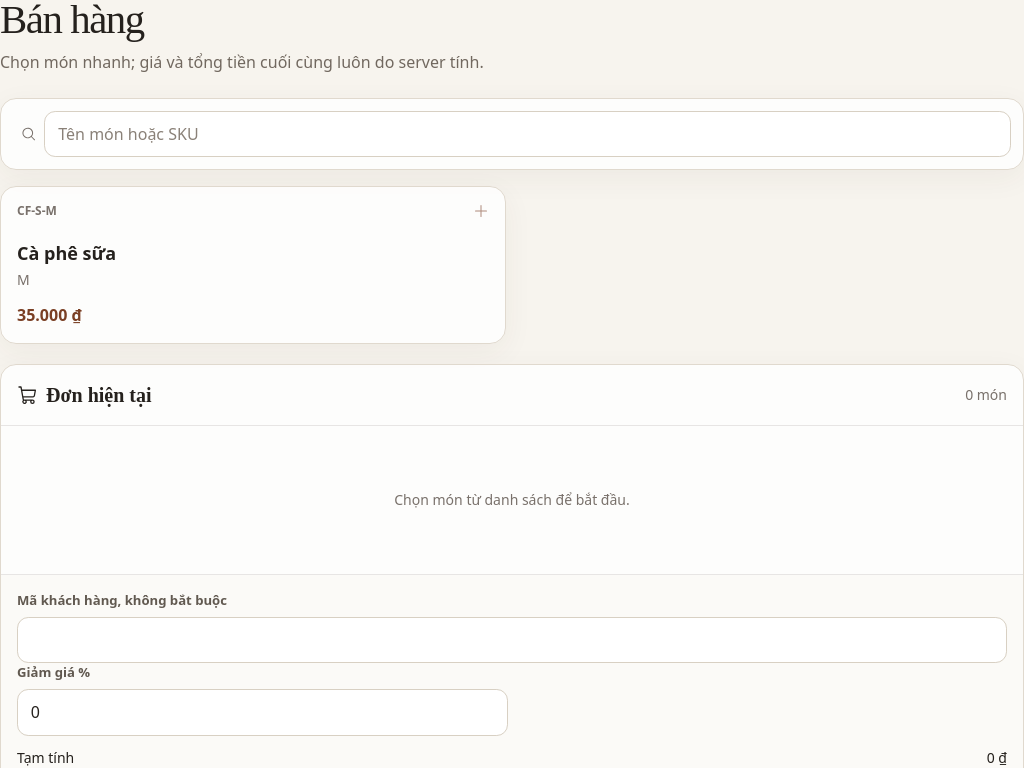
Test: creates a POS order using variant and quantity without sending client prices
Click the button "CF-S-M Cà phê sữa M 35.000 ₫". click: (37, 211)
box: x1=0 y1=186 x2=506 y2=344
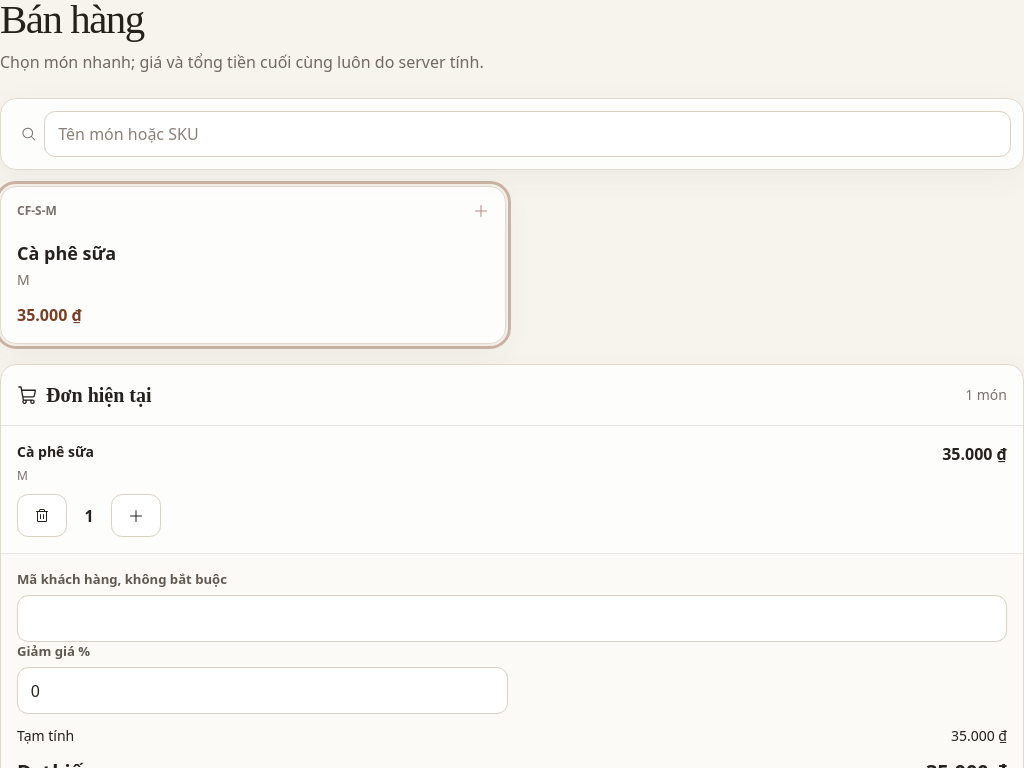
Click the button named "Tăng số lượng". click: (136, 516)
box: x1=111 y1=494 x2=161 y2=537
(page scrolled)
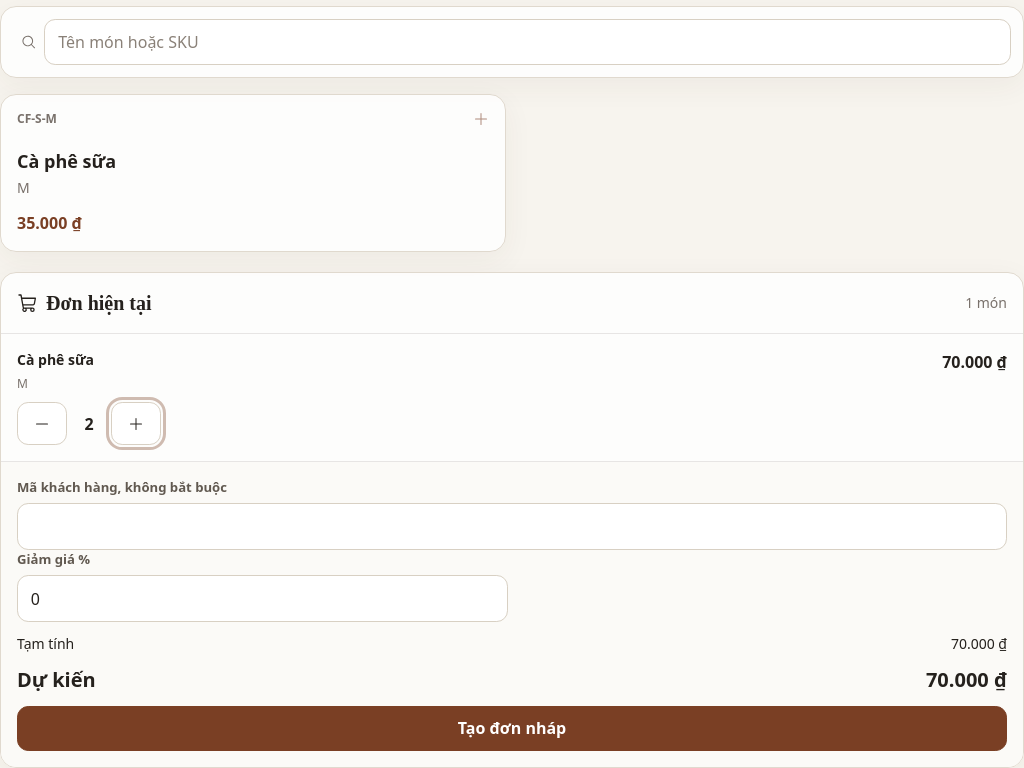
Click the button "Tạo đơn nháp". click: (512, 728)
box: x1=17 y1=706 x2=1007 y2=751
(page scrolled)
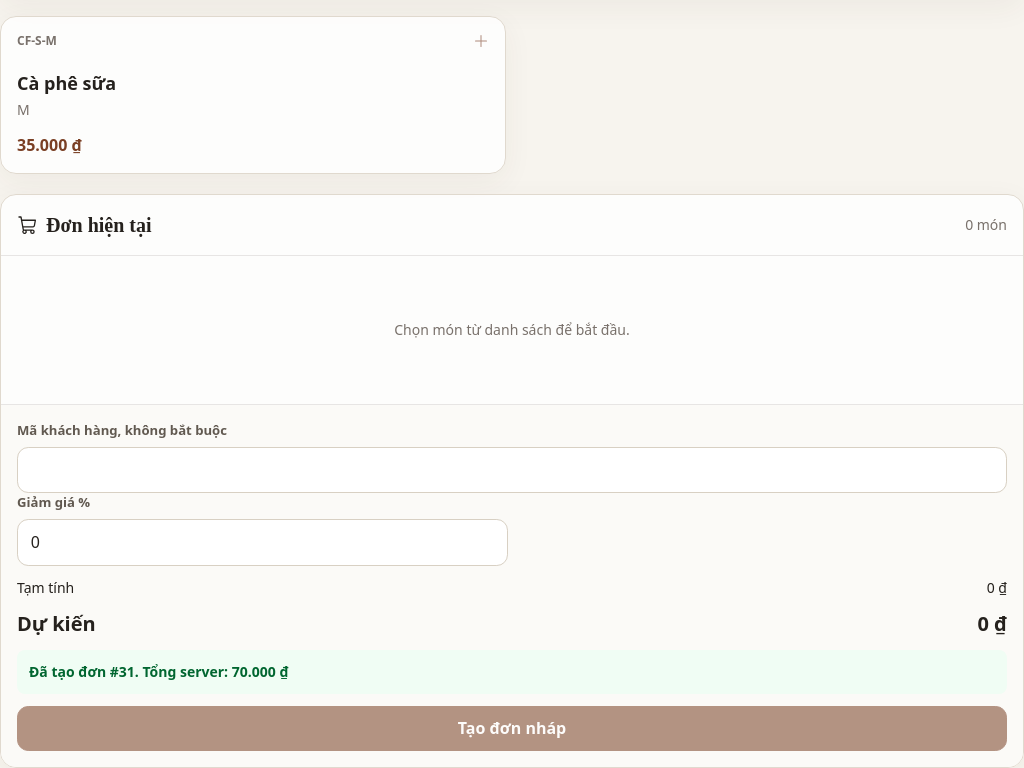
Check: the message shows "Đã tạo đơn #31", box x1=17 y1=650 x2=1007 y2=694
